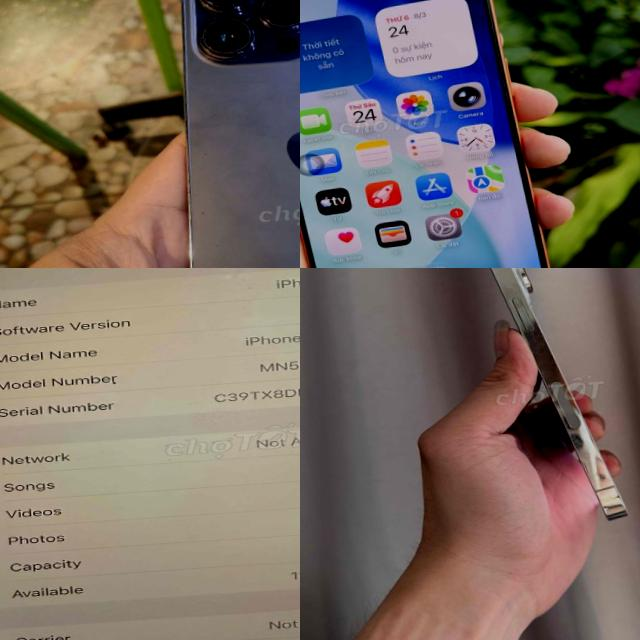gen_14: (468, 268, 640, 541), (164, 0, 300, 268)
gen_17: (300, 0, 592, 268)
gen_7_8: (0, 268, 300, 640)
